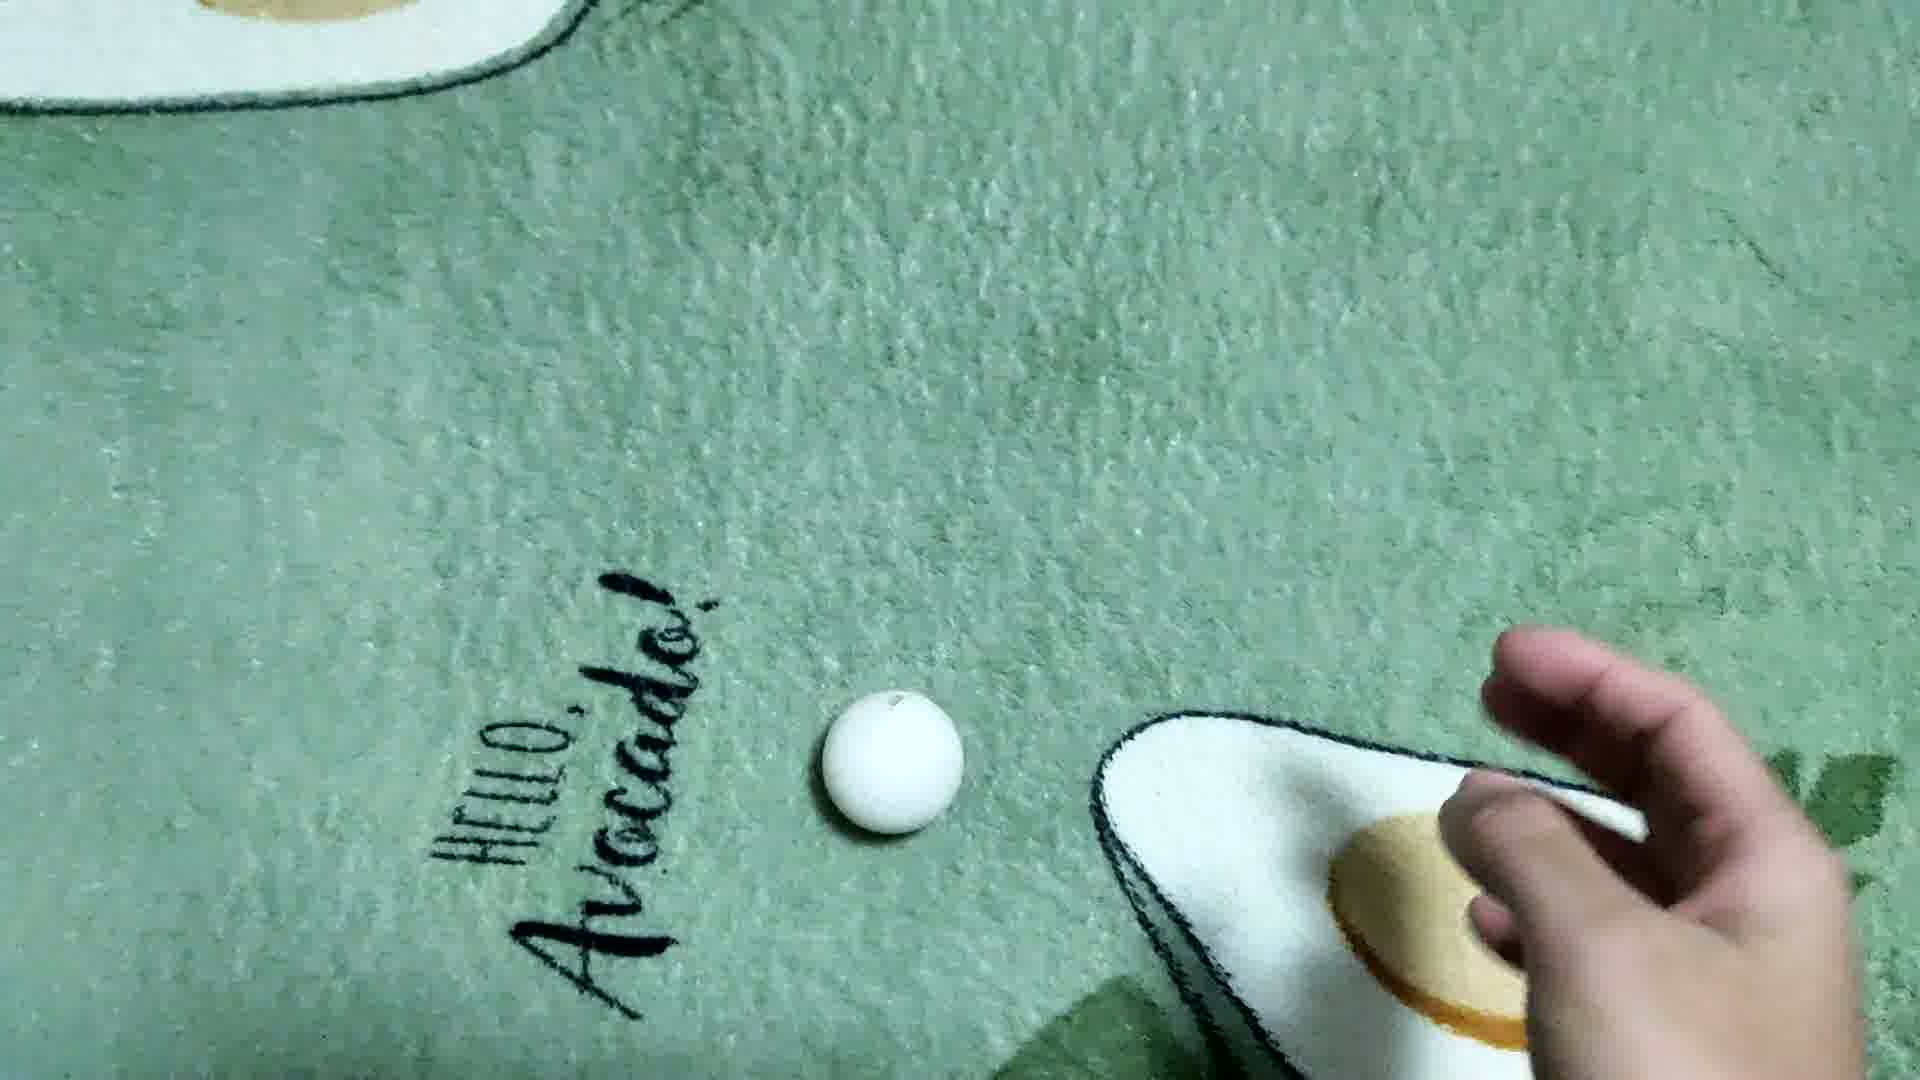Ball: (822, 692, 963, 835)
